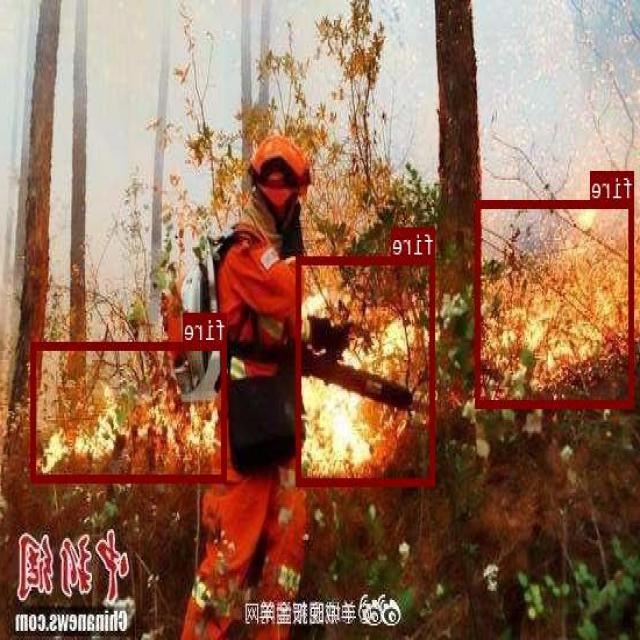fire: (476, 199, 635, 407), (297, 255, 436, 484), (32, 340, 228, 482)
